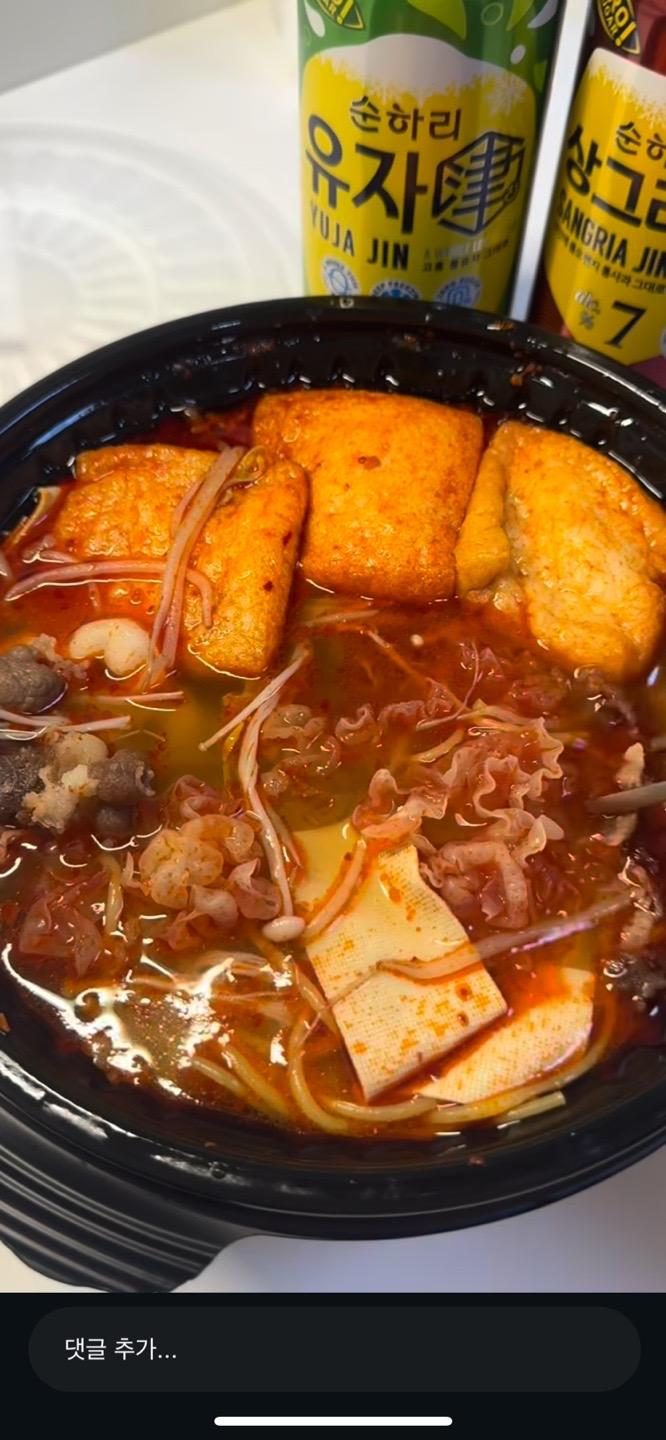Lunch Box: (0, 298, 665, 1290)
